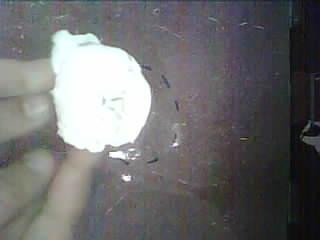paper: (51, 30, 151, 152)
